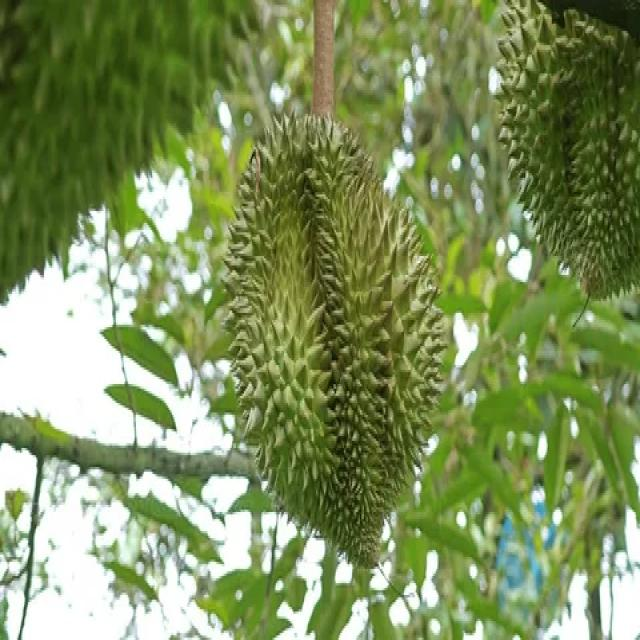immature: (226, 112, 450, 576), (500, 0, 640, 302)
